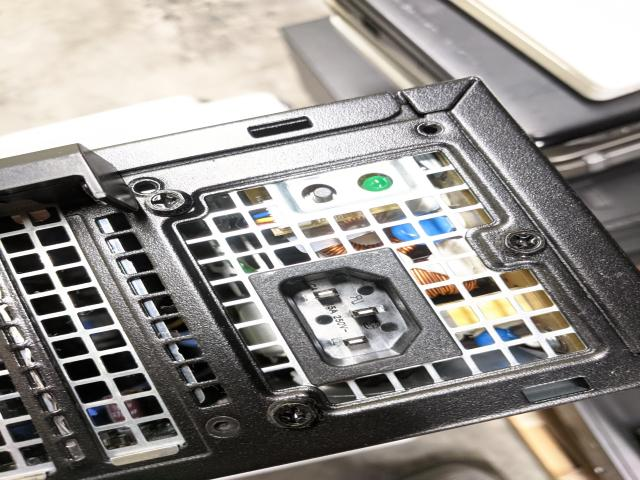CRS: (143, 188, 194, 217), (269, 400, 319, 429), (503, 228, 549, 257)
